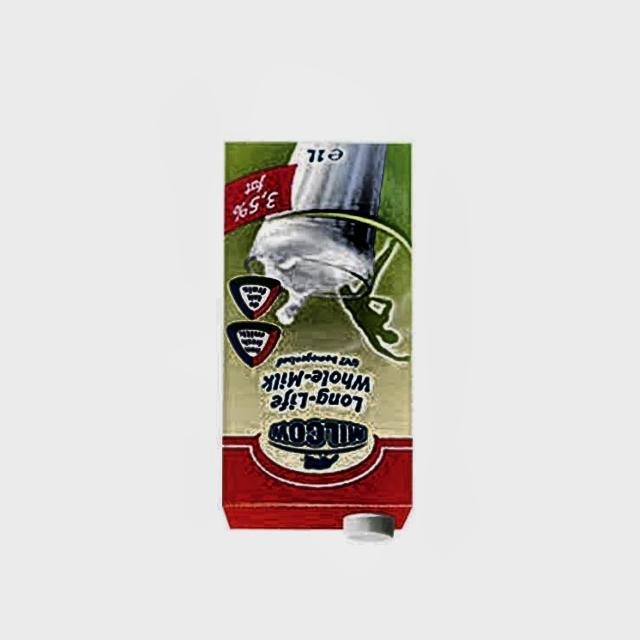cardboard: (222, 142, 414, 540)
